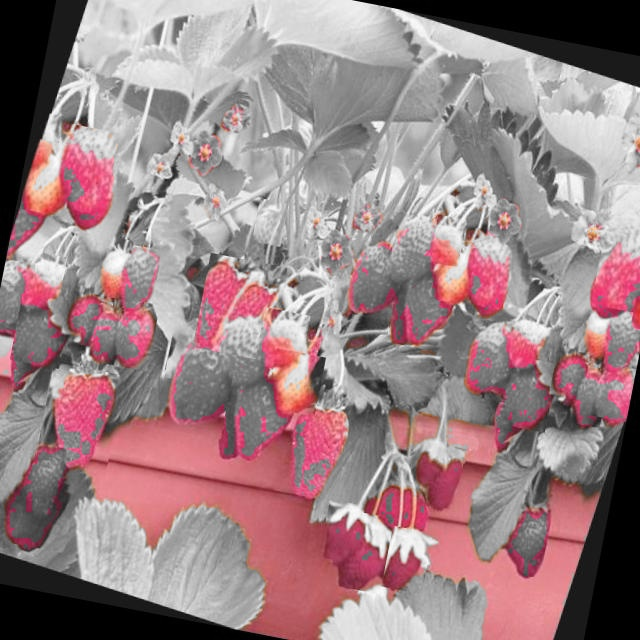ripe: (34, 362, 126, 478), (193, 253, 288, 362), (154, 326, 240, 439), (274, 393, 354, 502), (220, 364, 301, 468), (0, 450, 81, 554), (386, 258, 463, 354), (44, 122, 120, 216), (196, 258, 272, 350), (458, 314, 524, 404), (338, 235, 406, 322), (329, 509, 395, 595), (496, 487, 556, 579), (453, 226, 517, 311), (590, 214, 640, 317), (6, 174, 57, 266), (383, 212, 443, 290), (10, 294, 72, 369), (501, 356, 558, 434), (103, 297, 160, 372), (15, 442, 72, 512), (378, 525, 433, 594), (14, 250, 67, 319), (112, 244, 162, 316), (591, 307, 640, 376), (318, 499, 366, 564), (0, 256, 36, 341), (590, 362, 636, 422), (569, 364, 611, 428), (60, 288, 104, 347), (426, 447, 466, 510), (84, 303, 124, 365), (549, 347, 591, 401), (409, 433, 447, 488)
unripe: (20, 139, 79, 218), (266, 348, 326, 416), (254, 307, 310, 373), (431, 242, 476, 306), (91, 235, 134, 300), (31, 112, 64, 180), (429, 215, 467, 267), (576, 308, 614, 357), (252, 198, 288, 246), (630, 260, 640, 330)
